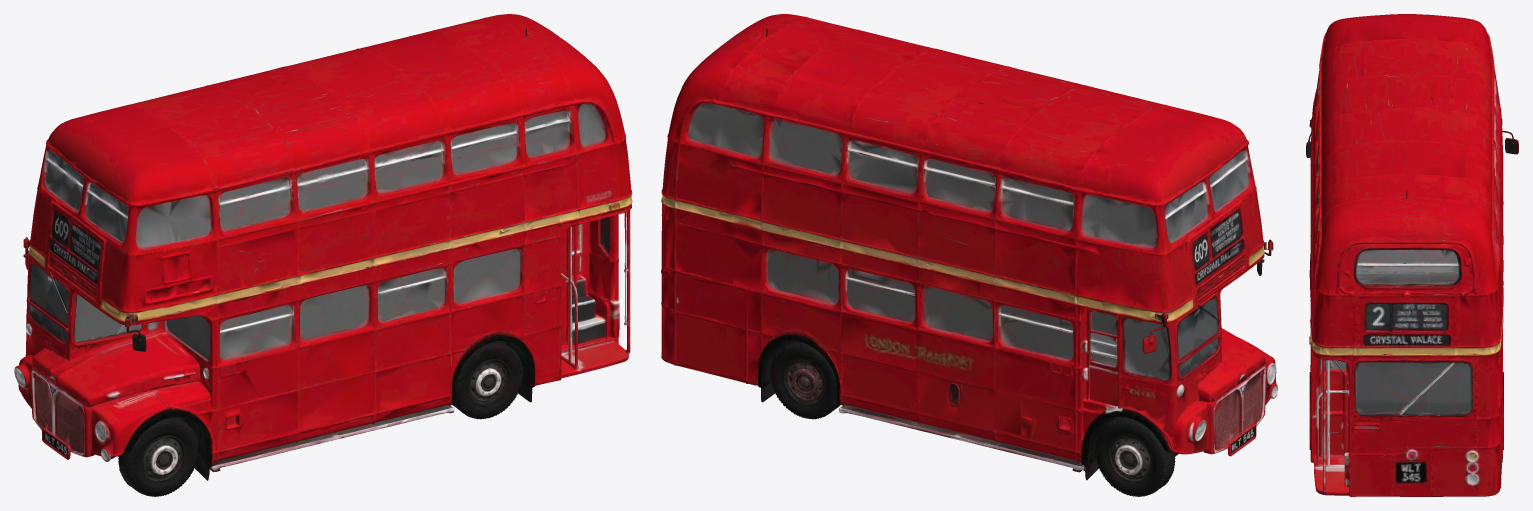
The model's file is bus-SHRINK.glb.
The picture shows the model from 3 angles, left to right: view 1: azimuth 30°, elevation 25°; view 2: azimuth 150°, elevation 25°; view 3: azimuth 270°, elevation 25°; orthographic projection. The views are drawn at different scales.
Parts seen in each view (by area): view 1: Mesh_0; view 2: Mesh_0; view 3: Mesh_0.
Part boxes in pixels (left/top/right/bottom): Mesh_0: left=14, top=14, right=632, bottom=496; Mesh_0: left=661, top=14, right=1277, bottom=496; Mesh_0: left=1306, top=14, right=1518, bottom=496.
Size of the model in its own units: 1.9 by 1.13 by 0.7205.
Materials: 1 (1 with a texture image).
